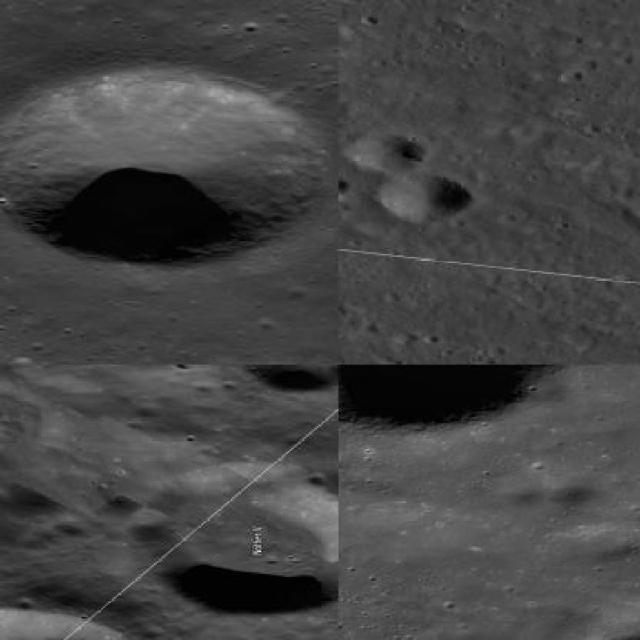crater: (0, 65, 326, 266), (143, 465, 337, 617), (374, 174, 474, 220), (342, 130, 431, 172), (338, 174, 352, 197)
